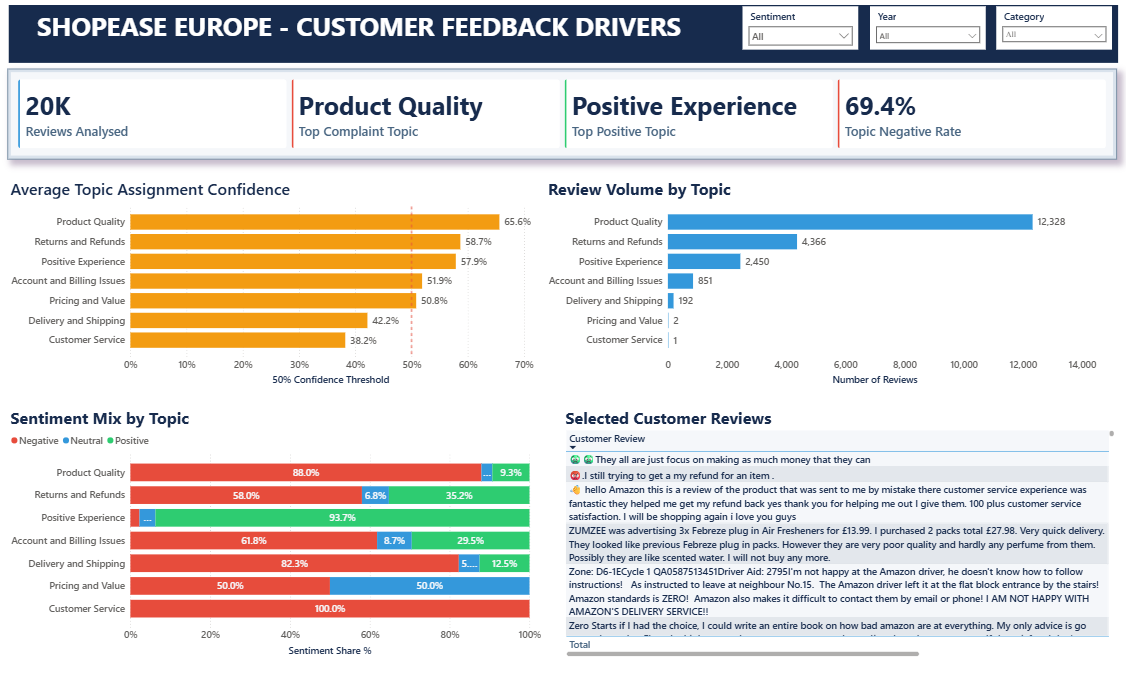

The dashboard page shown, as its layout file describes it:
{"tool":"powerbi","page":{"name":"Feedback Drivers","canvas":[1900,1200],"ordinal":4},"visuals":[{"type":"shape","box":[32,24,1840,96],"z":0},{"type":"textbox","box":[72,24,1248,72],"z":1000},{"type":"slicer","fields":{"Values":["amazon_reviews_cleaned_processe.sentiment"]},"box":[1249,27.2,192,72],"z":2000},{"type":"slicer","fields":{"Values":["amazon_reviews_cleaned_processe.year"]},"box":[1459.2,27.2,192,72],"z":3000},{"type":"cardVisual","fields":{"Data":["amazon_reviews_cleaned_processe.Feedback Review Count","amazon_reviews_cleaned_processe.Top Complaint Topic","amazon_reviews_cleaned_processe.Top Positive Topic","amazon_reviews_cleaned_processe.Topic Negative Rate"]},"box":[30,130,1840,150],"z":4000},{"type":"slicer","fields":{"Values":["Category List.Category"]},"box":[1670,27,192,72],"z":5000},{"type":"clusteredBarChart","title":"Review Volume by Topic","fields":{"Category":["Feedback Topics.topic_label"],"Y":["Feedback Topics.Topic Review Count"]},"box":[920,310,920,350],"z":6000},{"type":"hundredPercentStackedBarChart","title":"Sentiment Mix by Topic","fields":{"Category":["Feedback Topics.topic_label"],"Series":["Feedback Topics.sentiment"],"Y":["Feedback Topics.Topic Review Count"]},"box":[30,690,890,420],"z":7000},{"type":"clusteredBarChart","title":"Average Topic Assignment Confidence","fields":{"Category":["Feedback Topics.topic_label"],"Y":["Feedback Topics.Average Topic Confidence"]},"box":[30,310,890,350],"z":8000},{"type":"tableEx","title":"Selected Customer Reviews","fields":{"Values":["Feedback Topics.review","Feedback Topics.topic_label","Feedback Topics.topic_prob","Feedback Topics.sentiment","Feedback Topics.rating"]},"box":[950,690,920,420],"z":9000}]}

Visuals, with their boxes on the page's 1900x1200 design canvas (x1, y1, x2, y2). These are canvas units, not pixel positions in the 1126x677 screenshot, which may show the page scaled, cropped or inside an application window:
shape: x1=32, y1=24, x2=1872, y2=120
textbox: x1=72, y1=24, x2=1320, y2=96
slicer - amazon_reviews_cleaned_processe.sentiment: x1=1249, y1=27, x2=1441, y2=99
slicer - amazon_reviews_cleaned_processe.year: x1=1459, y1=27, x2=1651, y2=99
cardVisual - amazon_reviews_cleaned_processe.Feedback Review Count x amazon_reviews_cleaned_processe.Top Complaint Topic: x1=30, y1=130, x2=1870, y2=280
slicer - Category List.Category: x1=1670, y1=27, x2=1862, y2=99
"Review Volume by Topic" clusteredBarChart: x1=920, y1=310, x2=1840, y2=660
"Sentiment Mix by Topic" hundredPercentStackedBarChart: x1=30, y1=690, x2=920, y2=1110
"Average Topic Assignment Confidence" clusteredBarChart: x1=30, y1=310, x2=920, y2=660
"Selected Customer Reviews" tableEx: x1=950, y1=690, x2=1870, y2=1110
